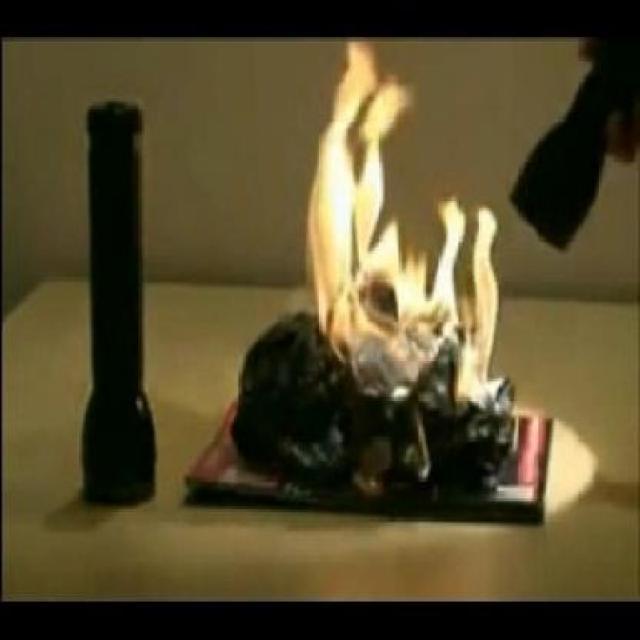smoke: (302, 34, 500, 410)
